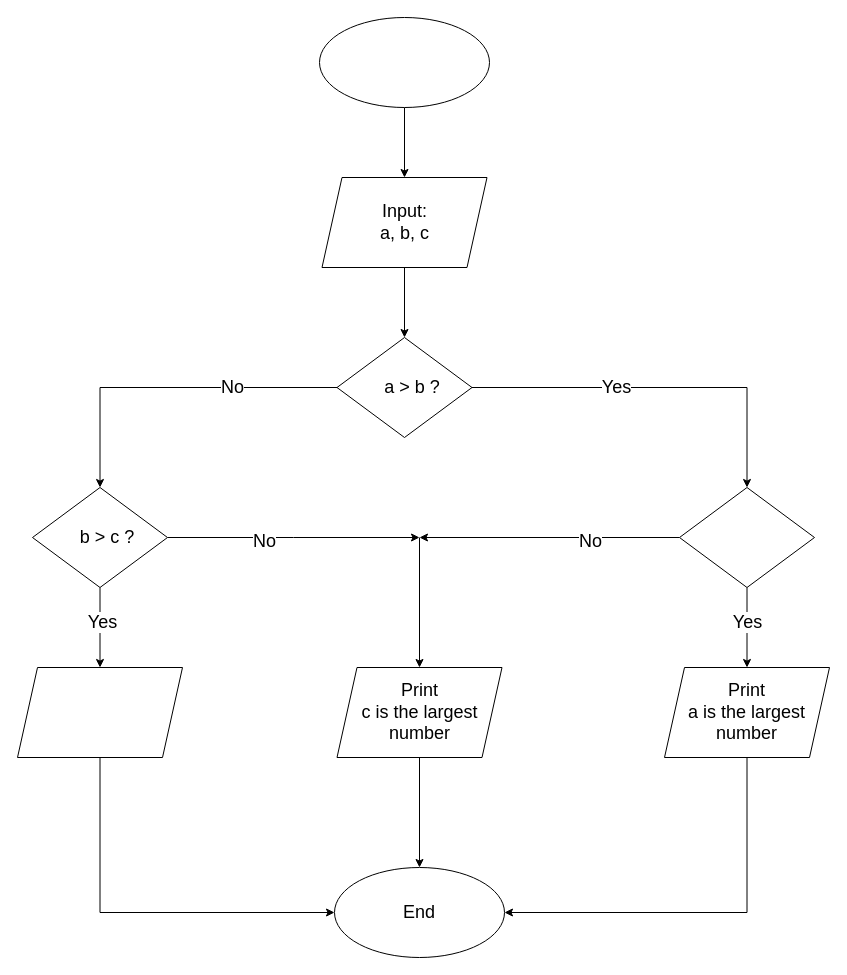
Image size: 847x975. Some labels were removed from this diagram. The shapes that lost their labels are listed below. From the top down, each one's centre as x and y in pixels, then its label:
At (404,62): "Start".
At (746,537): "a > c ?".
At (99,712): "Print b is the largest number".
